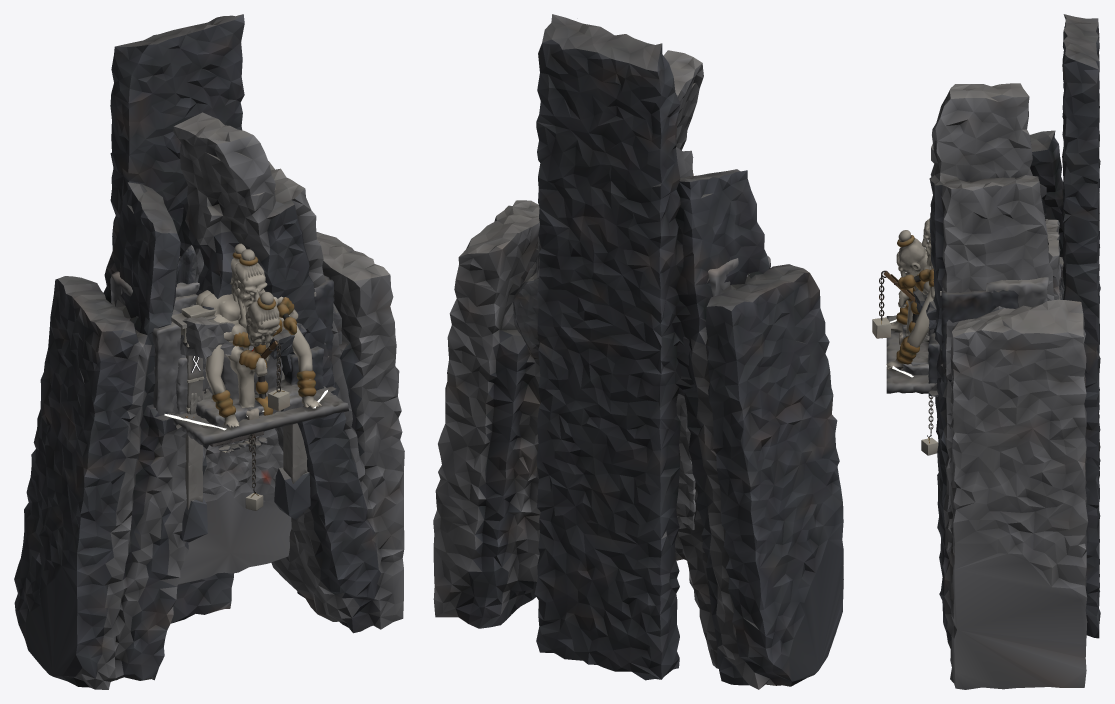
The model's file is smith_heart_hammer_kit.glb.
3 views of the same model, side by side, from view 1: azimuth 30°, elevation 25°; view 2: azimuth 150°, elevation 25°; view 3: azimuth 270°, elevation 25° (orthographic). The views are drawn at different scales.
Parts seen in each view (by area): view 1: Kit_CleftGate, Kit_CollapseOverhang, Kit_ColossusWaking, Kit_ColossusVigil, Kit_SlabFrame, Kit_ColossusBearer, Kit_GreatCliffC, Kit_Derrick, Kit_GreatCliffA; view 2: Kit_CleftGate, Kit_GreatCliffC, Kit_CollapseOverhang, Kit_ColossusWaking; view 3: Kit_CleftGate, Kit_ColossusWaking, Kit_ColossusVigil, Kit_CollapseOverhang, Kit_ColossusBearer, Kit_Derrick, Kit_ChainHoist.
Part boxes in pixels (bbox=[...]): Kit_CleftGate: bbox=[14, 14, 404, 689]; Kit_CollapseOverhang: bbox=[178, 256, 306, 584]; Kit_ColossusWaking: bbox=[110, 271, 348, 445]; Kit_ColossusVigil: bbox=[173, 249, 324, 415]; Kit_SlabFrame: bbox=[171, 292, 316, 542]; Kit_ColossusBearer: bbox=[196, 243, 303, 426]; Kit_GreatCliffC: bbox=[175, 248, 341, 429]; Kit_Derrick: bbox=[261, 340, 290, 411]; Kit_GreatCliffA: bbox=[176, 245, 284, 380]; Kit_CleftGate: bbox=[433, 14, 843, 689]; Kit_GreatCliffC: bbox=[513, 258, 696, 396]; Kit_CollapseOverhang: bbox=[675, 394, 695, 560]; Kit_ColossusWaking: bbox=[536, 229, 770, 296]; Kit_CleftGate: bbox=[929, 14, 1100, 689]; Kit_ColossusWaking: bbox=[886, 219, 1048, 393]; Kit_ColossusVigil: bbox=[900, 218, 939, 383]; Kit_CollapseOverhang: bbox=[913, 219, 1060, 329]; Kit_ColossusBearer: bbox=[897, 265, 934, 375]; Kit_Derrick: bbox=[872, 270, 915, 338]; Kit_ChainHoist: bbox=[921, 396, 938, 455].
Size of the model in its own units: 60.21 by 105 by 37.25.
